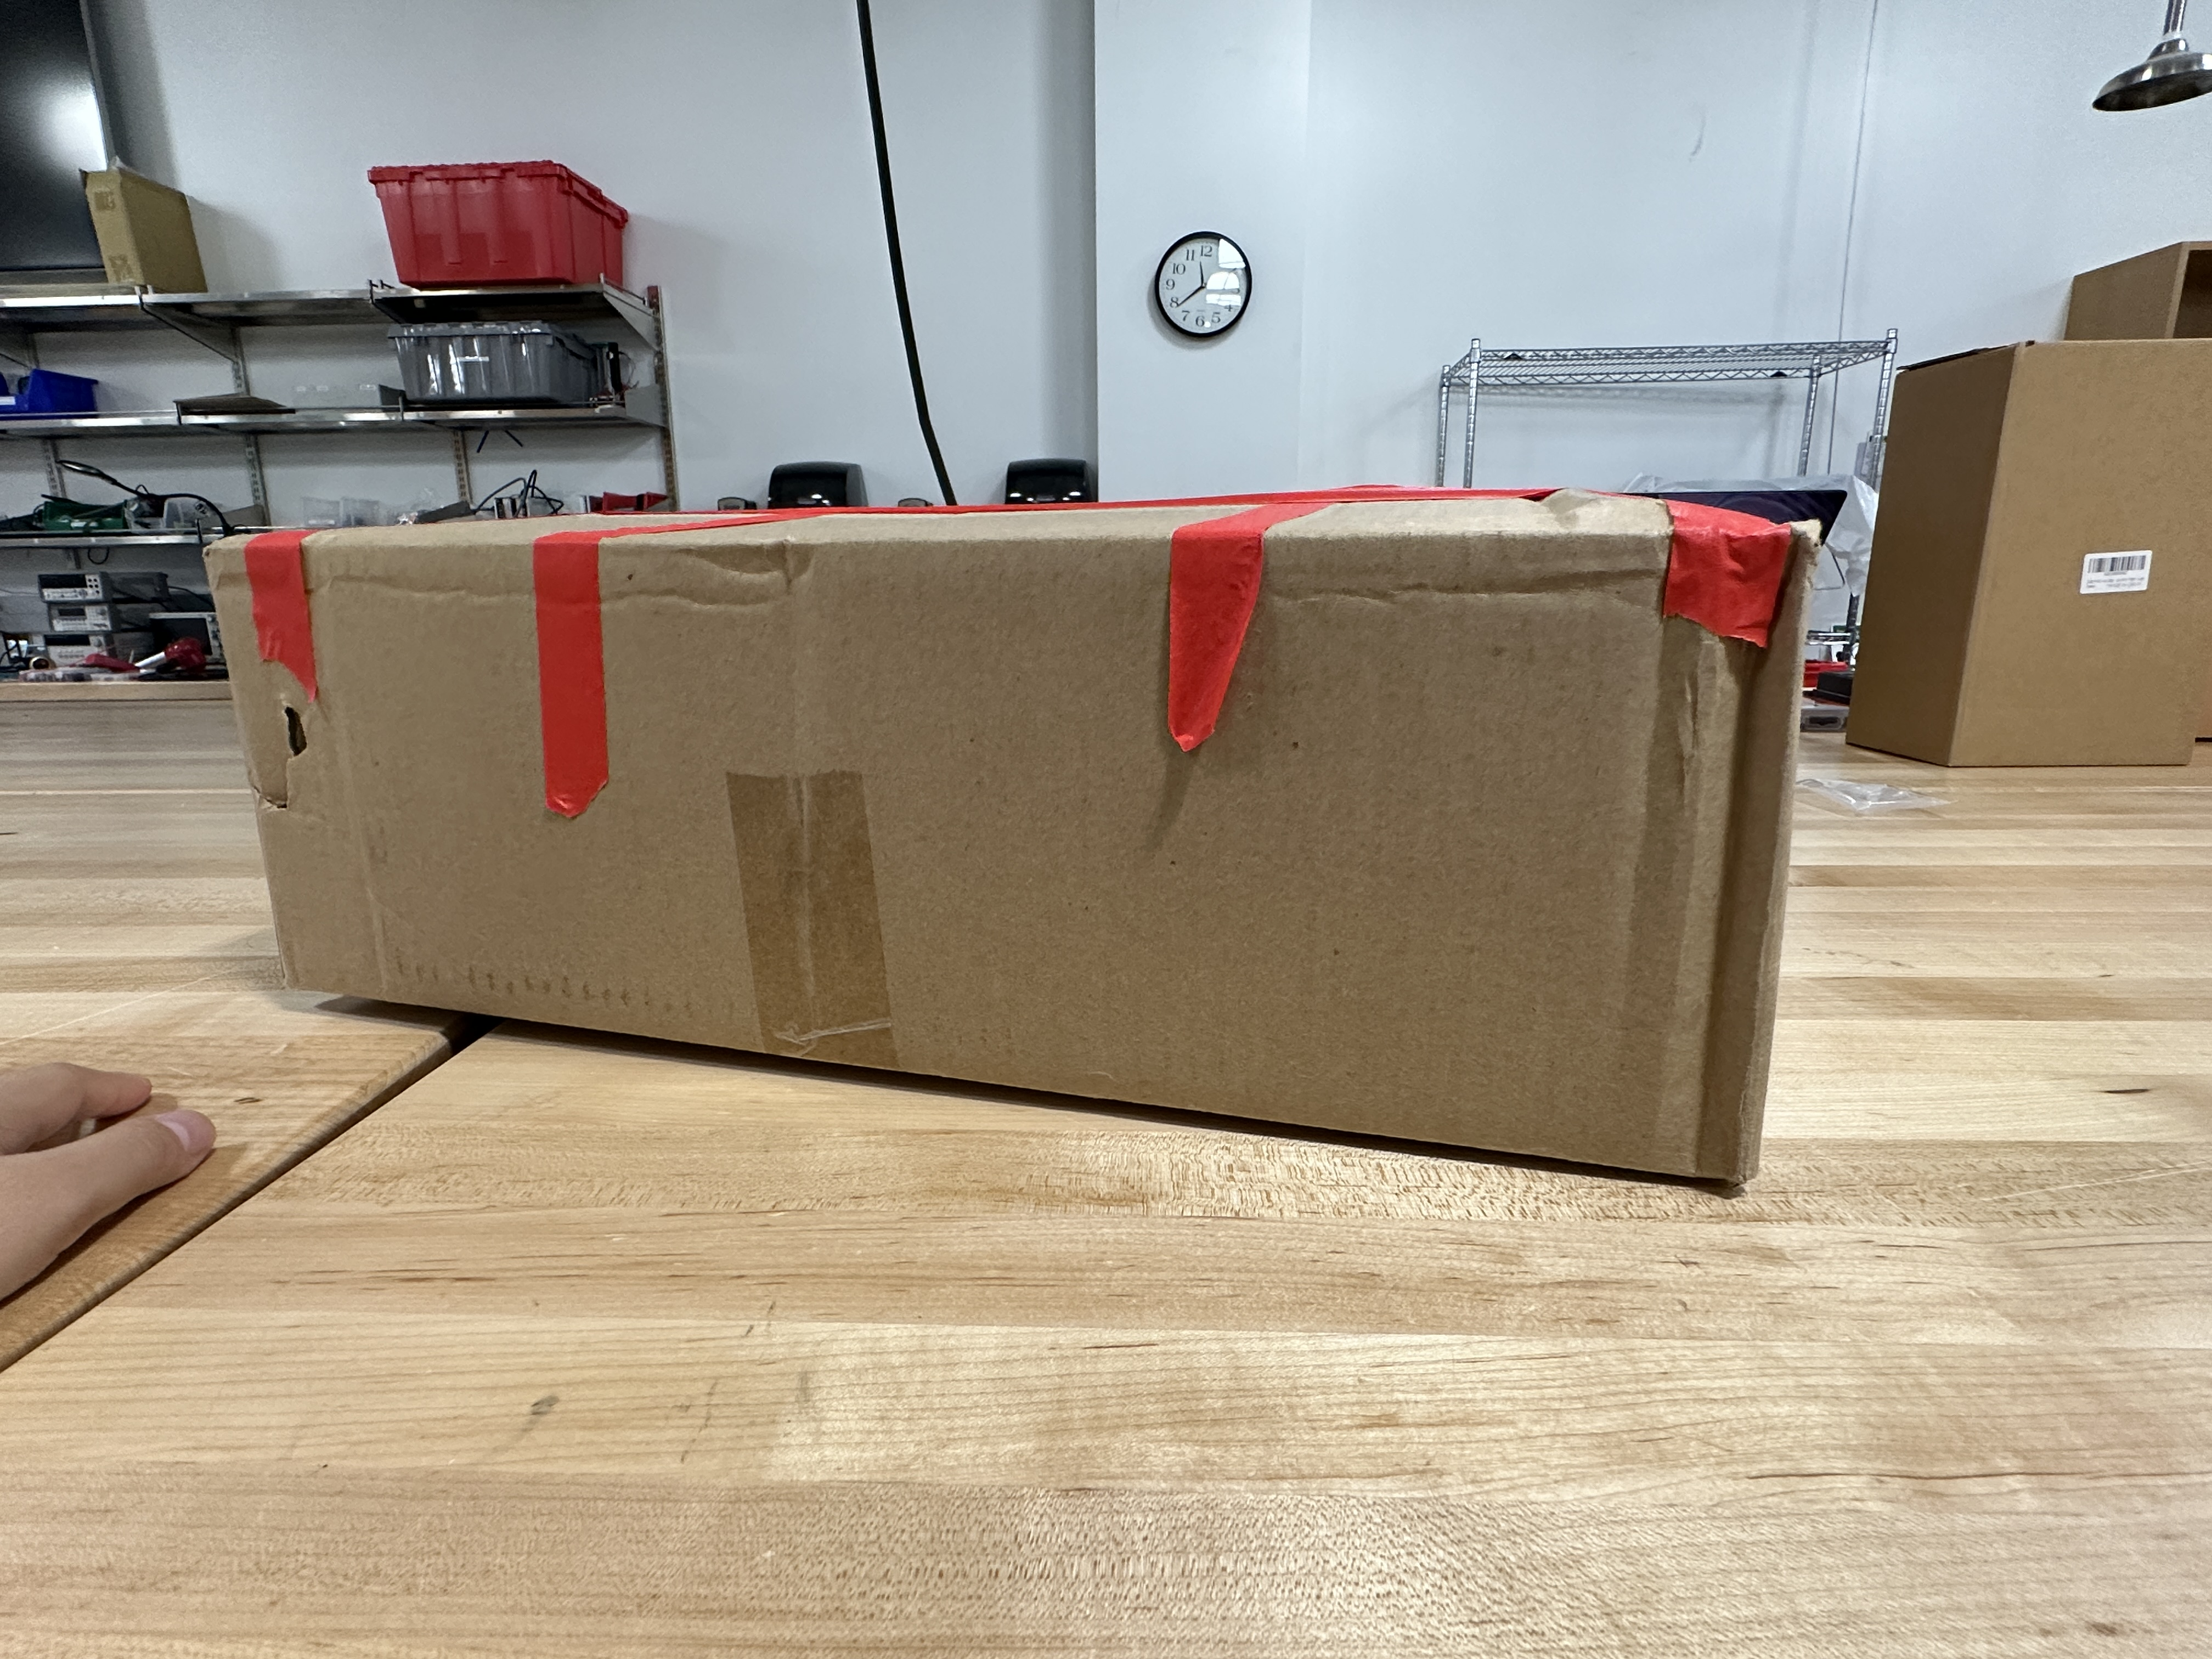Box_Obstacle: (196, 459, 1830, 1235)
